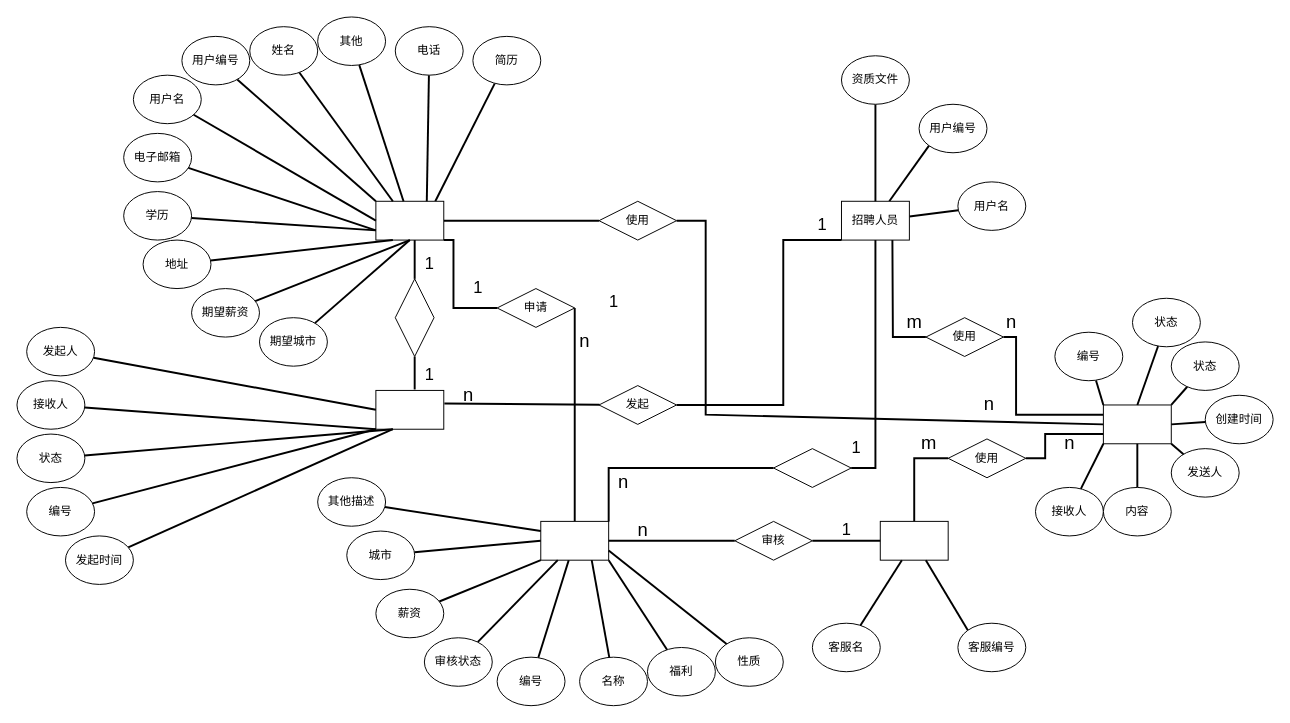
Image size: 1290x723. Some labels were removed from this diagram. Each missing label, with the centre of its shape:
发布: pixel 812 467
岗位: pixel 574 540
用户: pixel 409 220
管理员: pixel 913 540
聊天记录: pixel 1136 424
通知: pixel 414 317
面试: pixel 409 409
